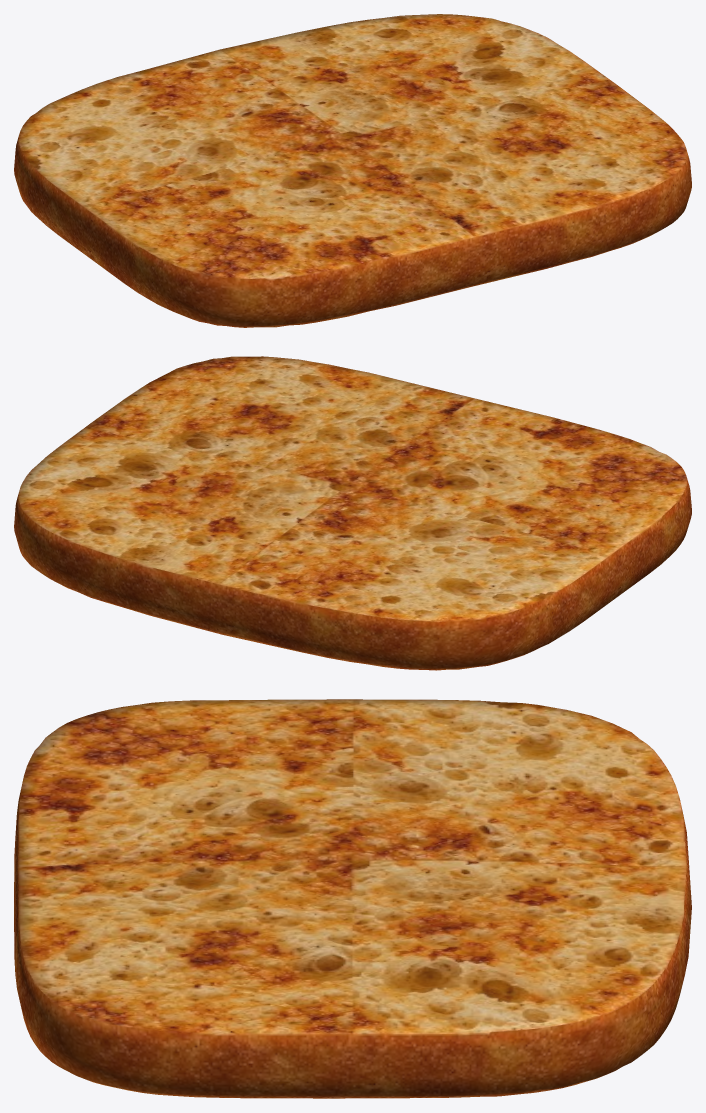
File: savory-sourdough.glb
The picture shows the model from 3 angles, top to bottom: view 1: azimuth 30°, elevation 25°; view 2: azimuth 150°, elevation 25°; view 3: azimuth 270°, elevation 25°; orthographic projection. The views are drawn at different scales.
Visible parts, largest first — view 1: savory-sourdough; view 2: savory-sourdough; view 3: savory-sourdough.
Part boxes in pixels (left/top/right/bottom): savory-sourdough: left=14, top=14, right=691, bottom=327; savory-sourdough: left=14, top=356, right=691, bottom=670; savory-sourdough: left=14, top=699, right=691, bottom=1098.
Bounding box in the file's own units: 2.4 × 0.2606 × 2.02.
Materials: 1 (1 with a texture image).
